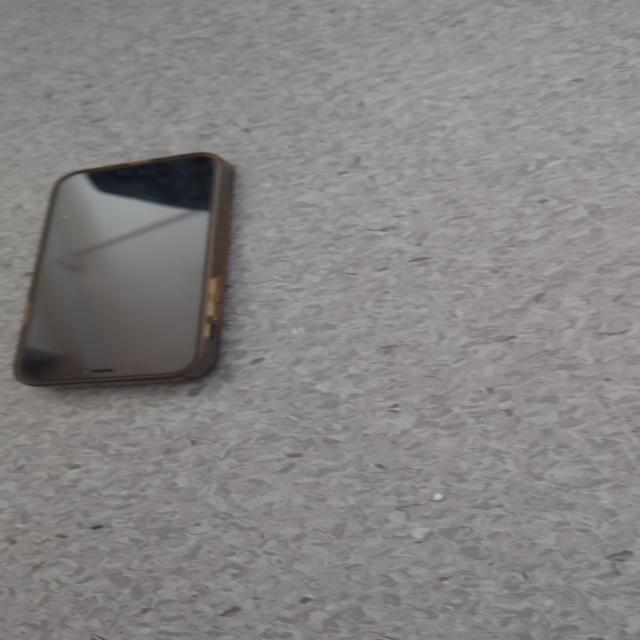phone: (12, 151, 234, 388)
